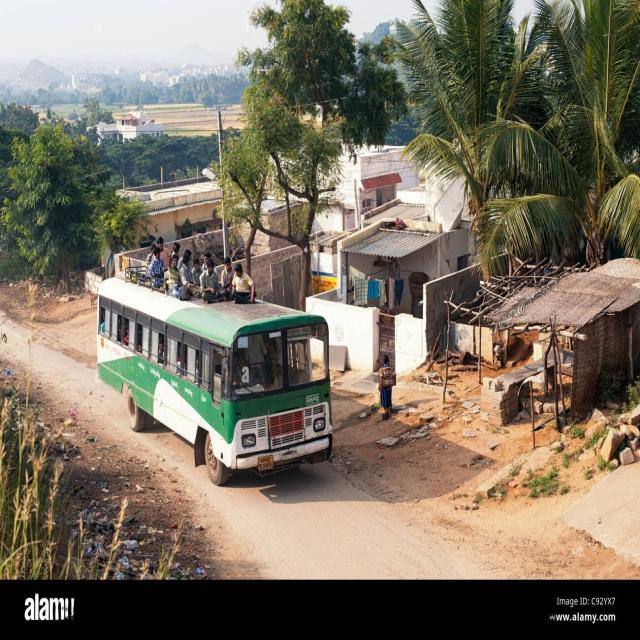bus: (96, 277, 334, 483)
